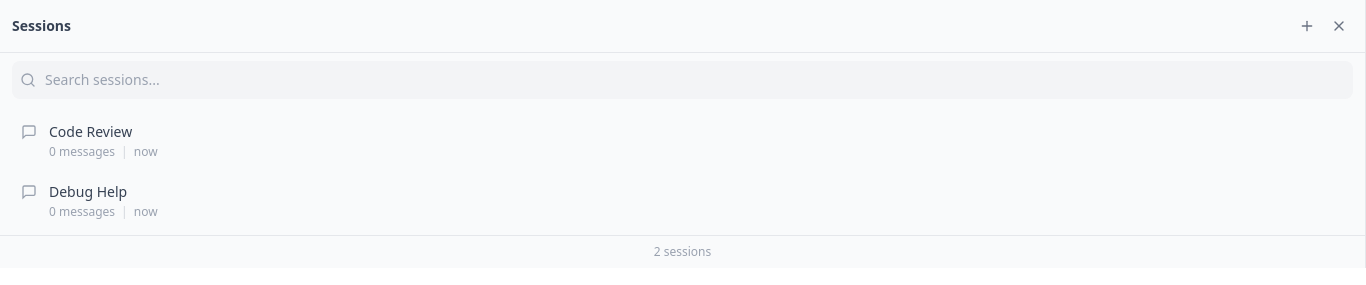
SessionSidebar › should filter sessions based on search query
Type "Code" into the field labelled "Search sessions". click: (682, 80)
box: [12, 61, 1353, 99]
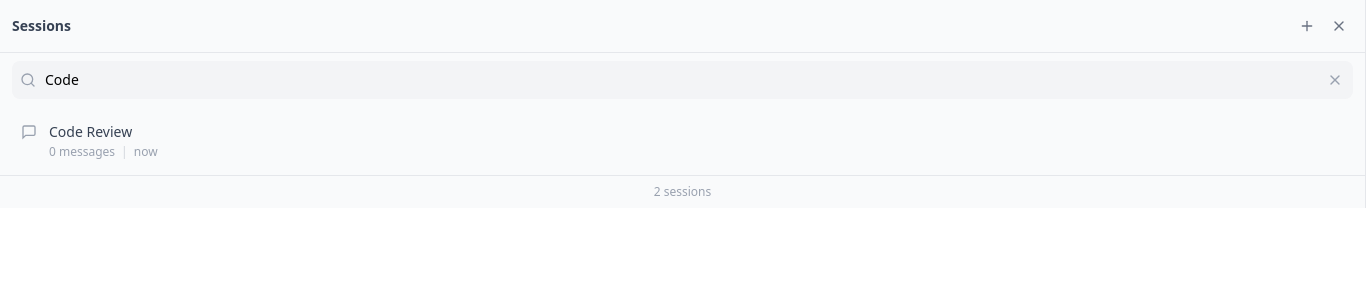
Expected: the text "Code Review" is shown, [49, 122, 132, 141]
Expected: the button "Debug Help" is gone
